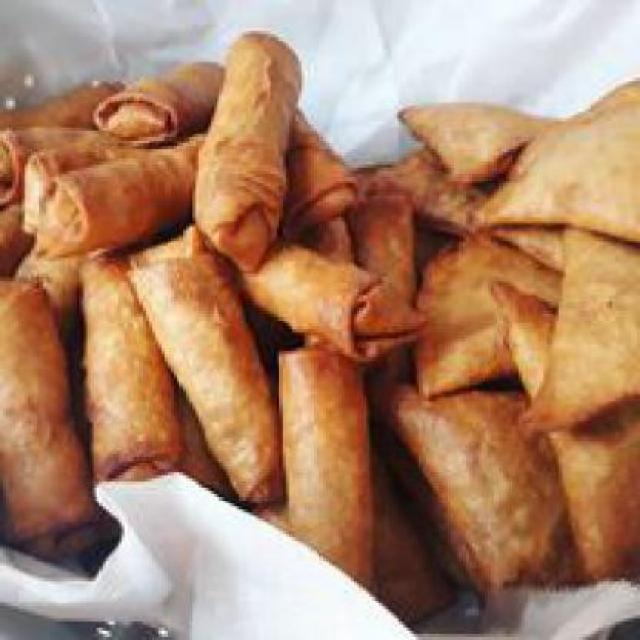spring rolls: (4, 25, 401, 600)
